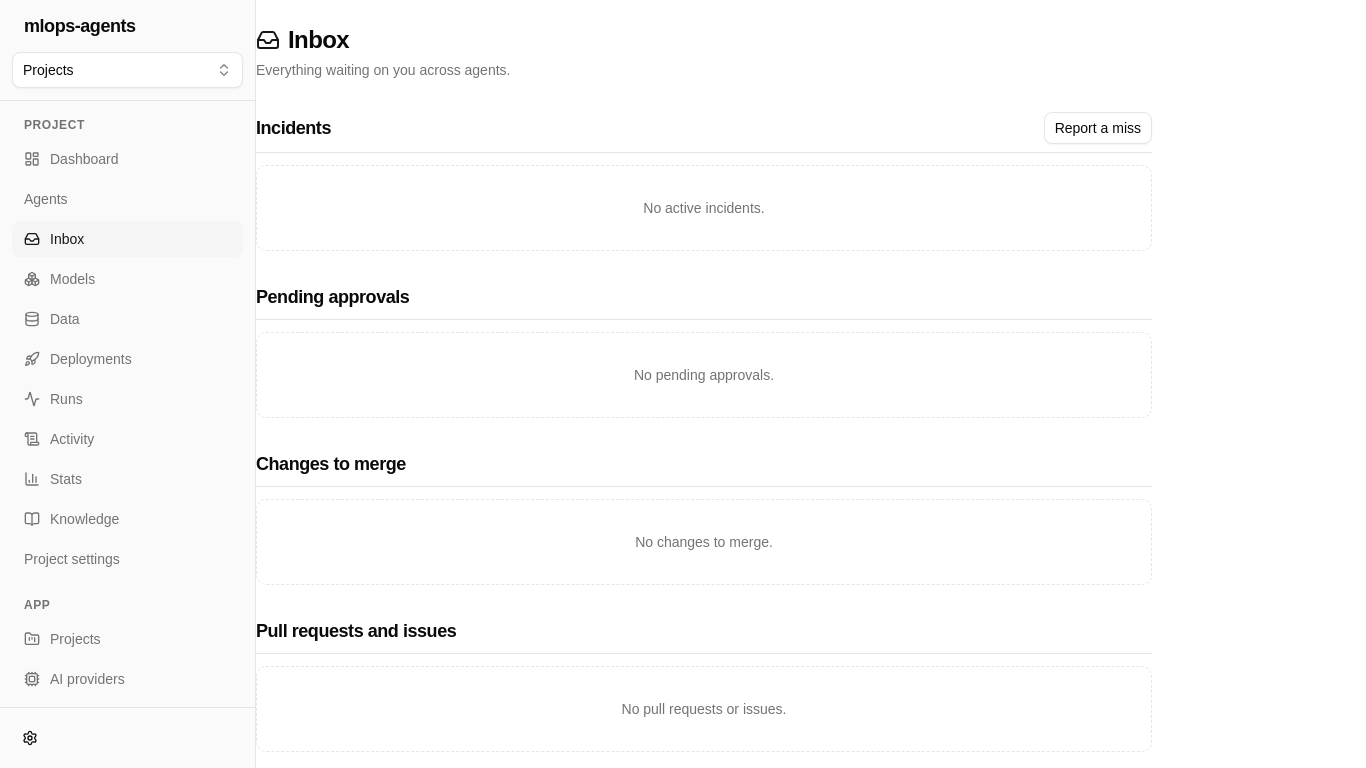
Test case: Inbox incidents section › offers the miss report dialog on the Inbox
Click the button "Report a miss" at (1098, 128), box [1044,112,1152,144]
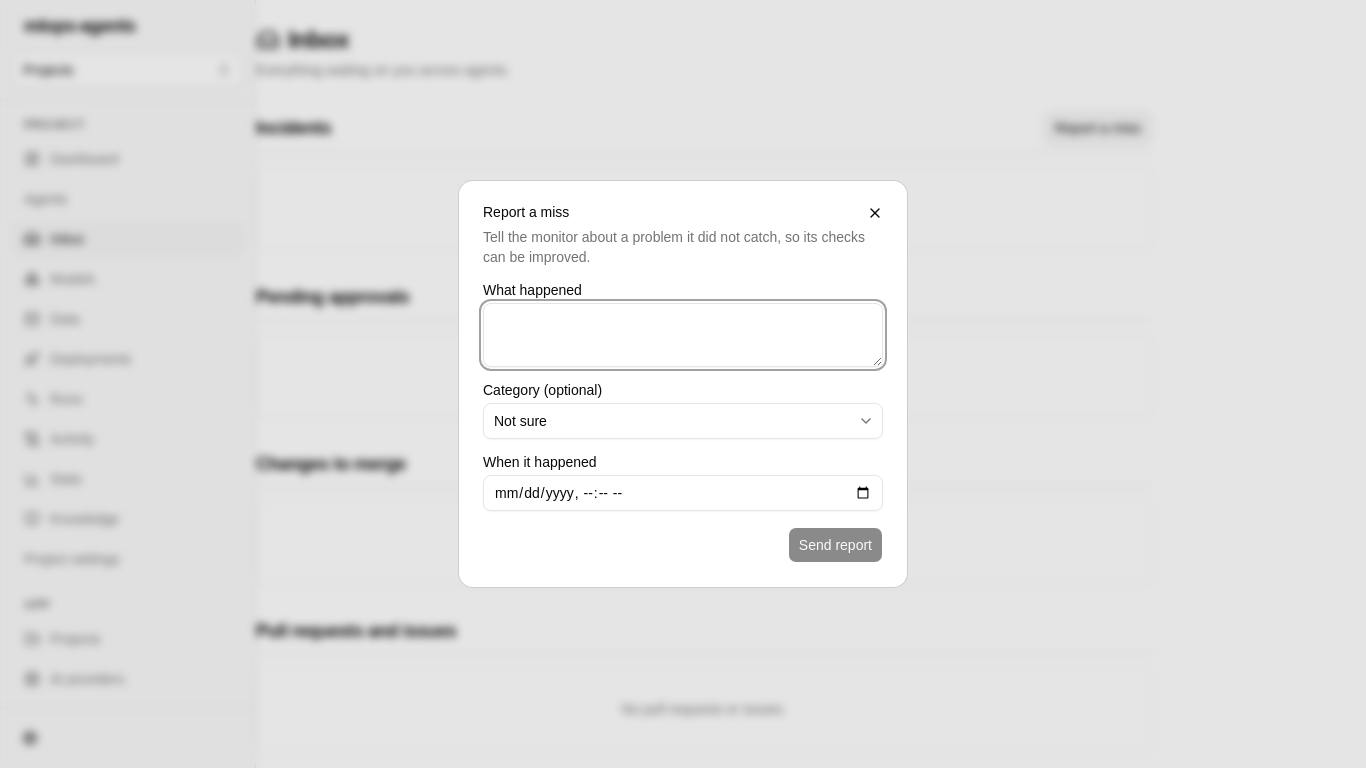
expect the dialog is shown: met, box [459,181,907,587]
